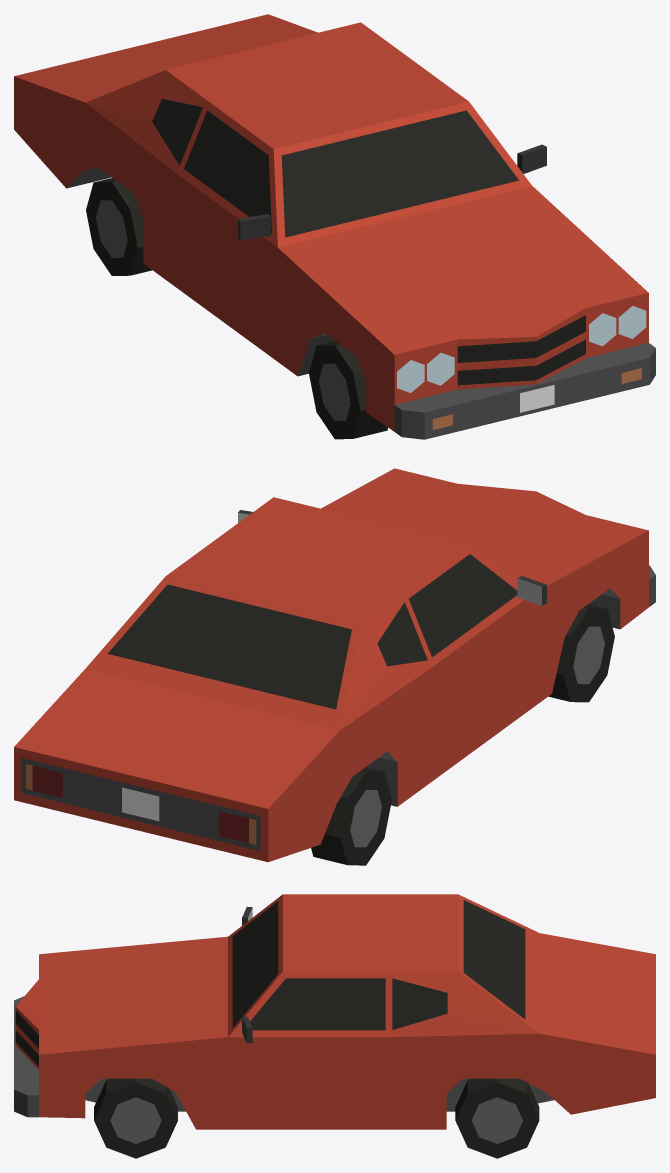
File: Veh_Muscle_Car_02_Red.obj
The picture shows the model from 3 angles, top to bottom: view 1: azimuth 30°, elevation 25°; view 2: azimuth 150°, elevation 25°; view 3: azimuth 270°, elevation 25°; orthographic projection. The views are drawn at different scales.
Bounding box in the file's own units: 1.18 × 0.8001 × 2.65.
